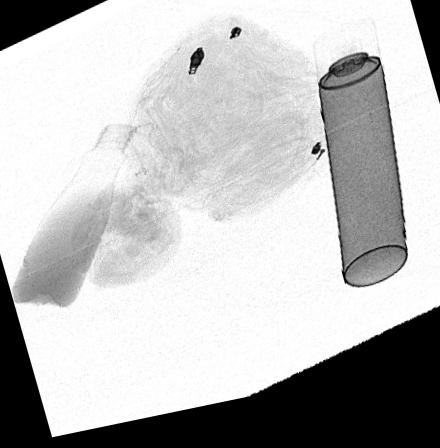Sprayer: (314, 33, 409, 304)
